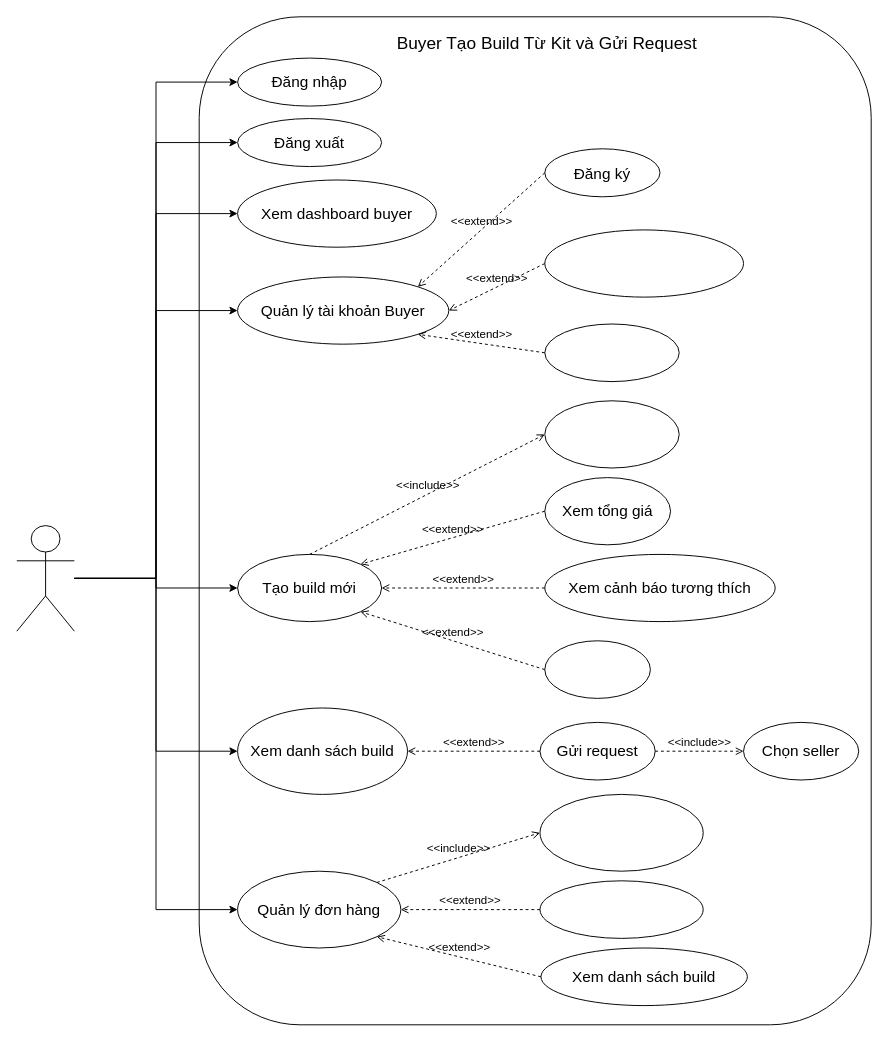
The diagram is 888 pixels wide and 1042 high, and some of its shapes have lost their labels. The shapes that lost their labels are listed below. From the top down, each one's centre as x and y in pixels, then its label:
(644,263): Xem profile tài khoản
(611,352): Đổi ngôn ngữ
(611,434): Cấu hình build
(45,578): Buyer
(597,669): Lưu build
(621,832): Theo dõi request
(621,909): Xem tóm tắt QC
